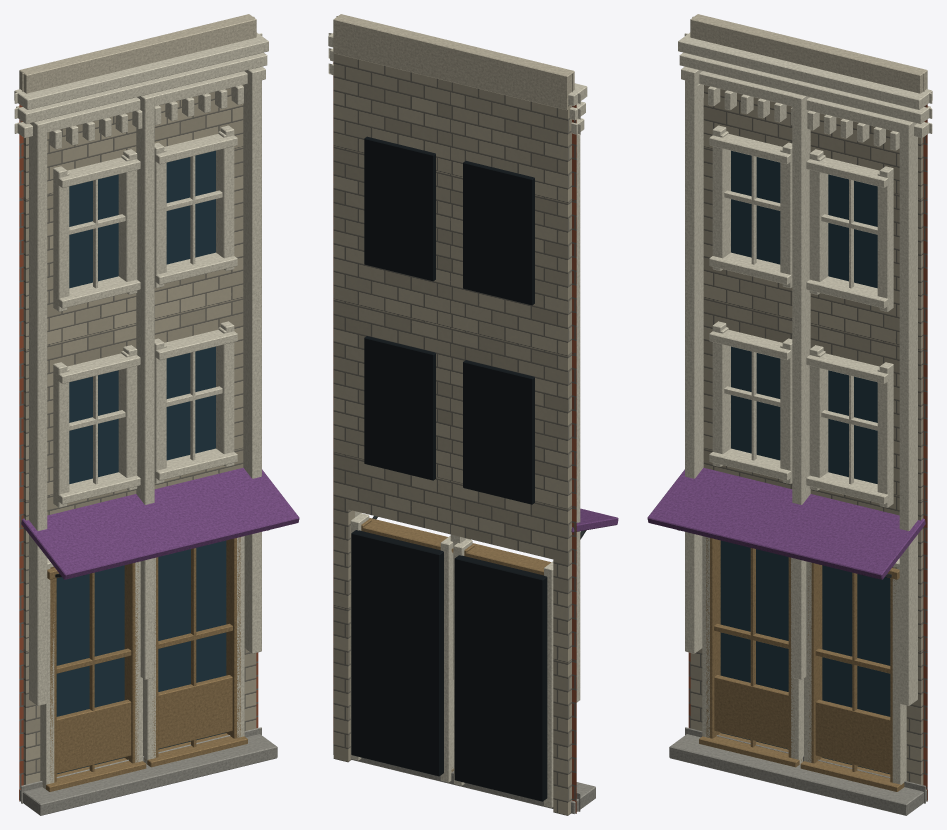
File: BUSS9_lod1.glb
3 views of the same model, side by side, from view 1: azimuth 30°, elevation 25°; view 2: azimuth 150°, elevation 25°; view 3: azimuth 330°, elevation 25° (orthographic).
Visible parts, largest first — view 1: BUSS9_FRONT_LOD1; view 2: BUSS9_FRONT_LOD1; view 3: BUSS9_FRONT_LOD1.
Boxes of the visible parts, box(x1,y1,x2,y2) form: BUSS9_FRONT_LOD1: box(14, 14, 299, 815); BUSS9_FRONT_LOD1: box(328, 14, 618, 815); BUSS9_FRONT_LOD1: box(647, 14, 932, 815).
Bounding box in the file's own units: 3.44 × 9.66 × 1.25.
11 materials, 9 textured.
